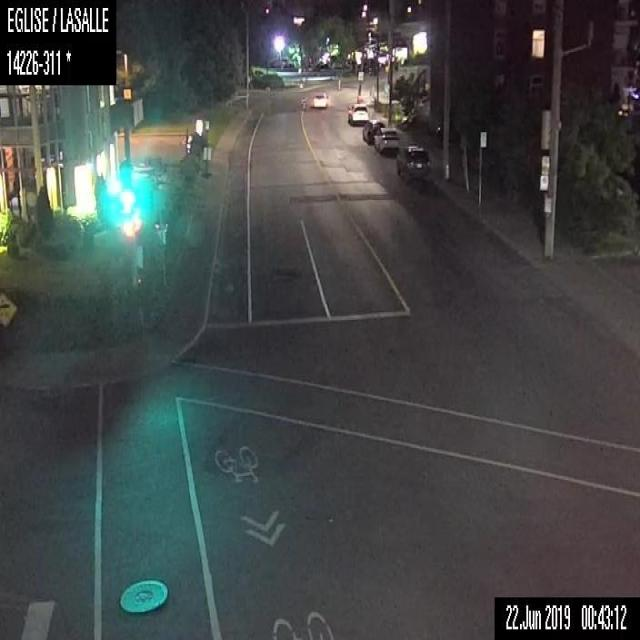vehicle: (394, 142, 429, 180), (374, 126, 399, 155), (361, 115, 383, 145), (256, 73, 283, 92), (347, 102, 367, 124), (311, 90, 327, 106)
